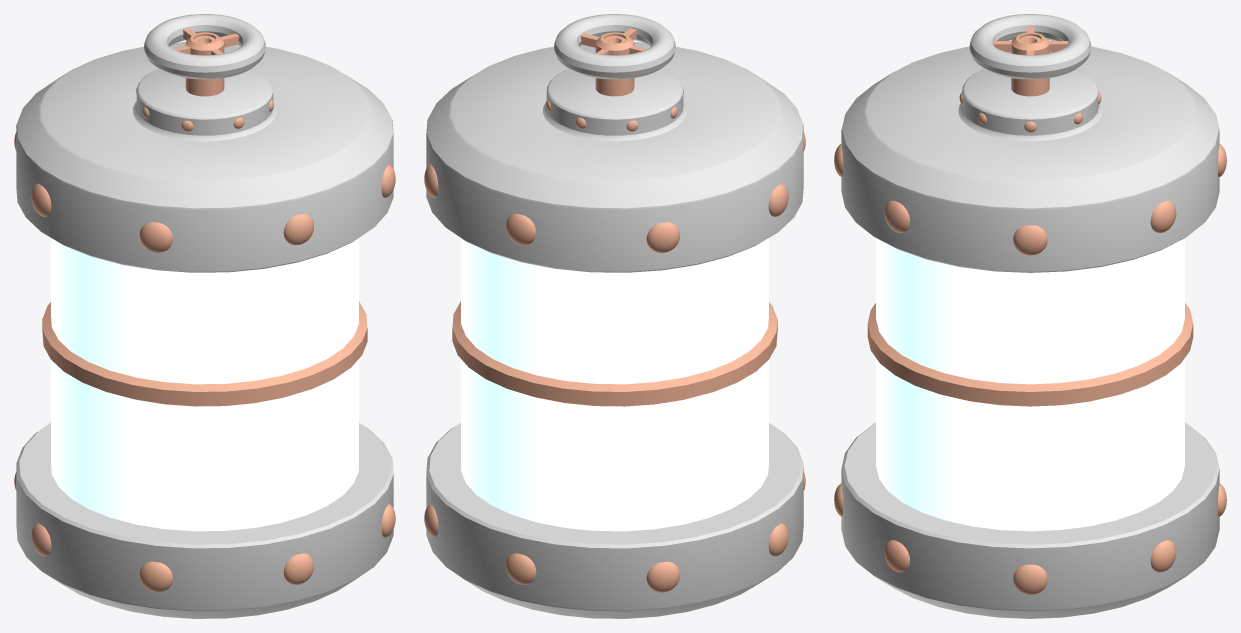
The model's file is battery.glb.
3 renders of one model, left to right at view 1: azimuth 30°, elevation 25°; view 2: azimuth 150°, elevation 25°; view 3: azimuth 270°, elevation 25°, orthographic.
Visible parts, largest first — view 1: Cylindre_2; view 2: Cylindre_2; view 3: Cylindre_2.
Part boxes in pixels (x1,y1,x2,y2): Cylindre_2: (14, 14, 395, 618); Cylindre_2: (424, 14, 805, 618); Cylindre_2: (834, 14, 1226, 618).
Size of the model in its own units: 1.53 by 2.38 by 1.53.
